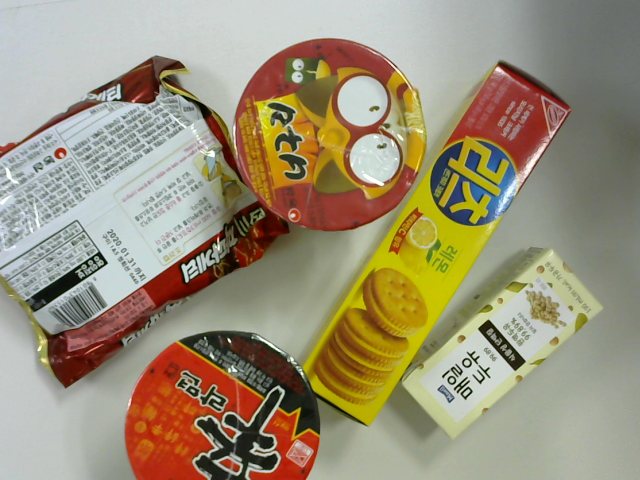99.89_Soymilk: (393, 244, 605, 436)
Raccoon: (227, 32, 429, 230)
Ritz_Remon_96g: (303, 62, 575, 426)
Sichuan_Chapaghetti: (3, 52, 297, 384)
Sinramen_small: (119, 332, 322, 480)
